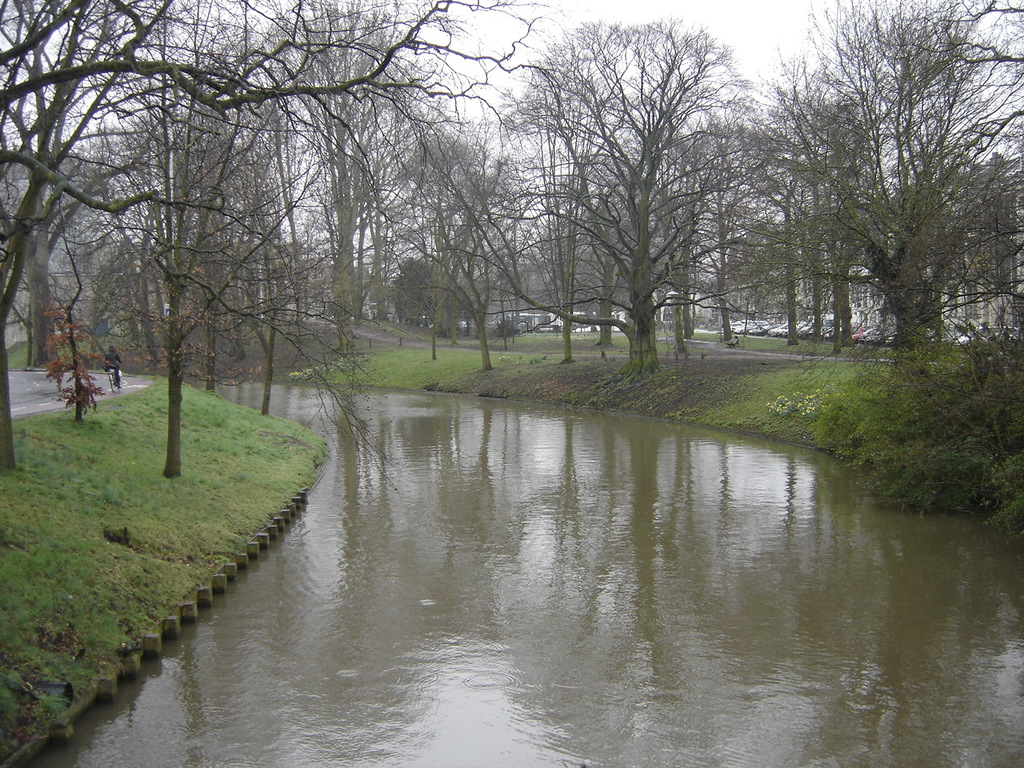Tree: (0, 0, 1024, 478)
